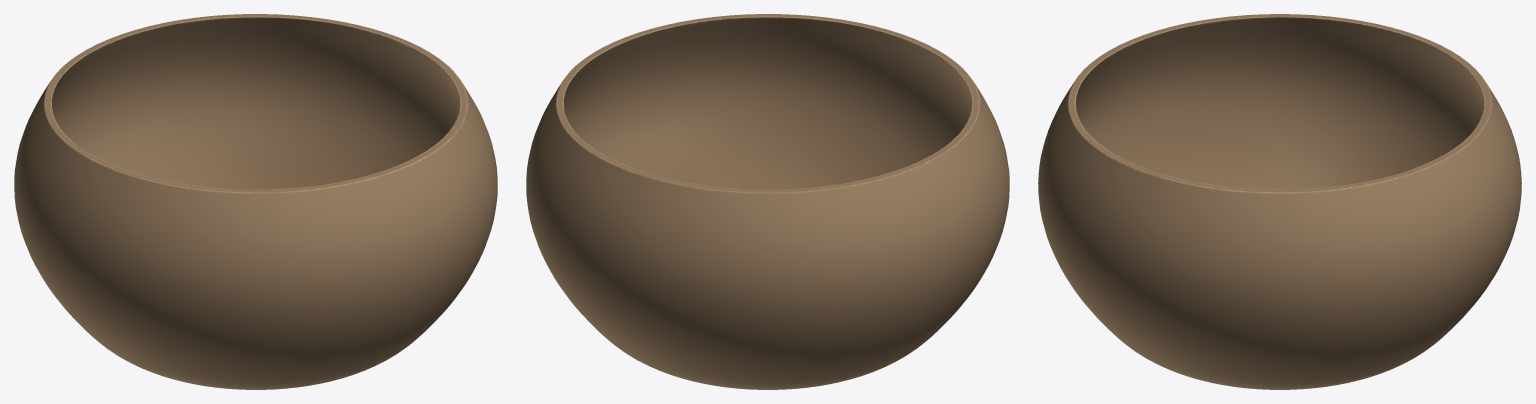
Rendered from bowl.fbx.
The picture shows the model from 3 angles, left to right: view 1: azimuth 30°, elevation 25°; view 2: azimuth 150°, elevation 25°; view 3: azimuth 270°, elevation 25°; orthographic projection.
Parts seen in each view (by area): view 1: pSphere1; view 2: pSphere1; view 3: pSphere1.
Boxes of the visible parts, x1,y1,x2,y2 form: pSphere1: (14, 14, 497, 389); pSphere1: (526, 14, 1009, 389); pSphere1: (1038, 14, 1521, 389).
Bounding box in the file's own units: 7.86 × 4.34 × 7.86.
Materials: 1 (1 with a texture image).
